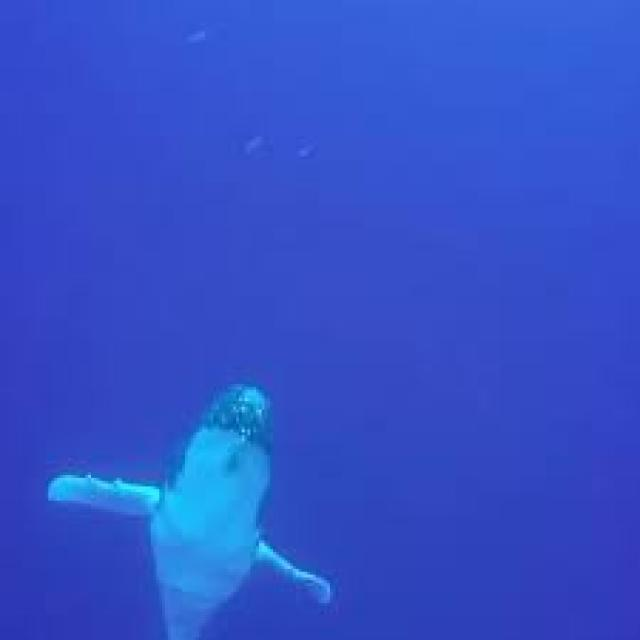blue_whale: (34, 375, 413, 640)
